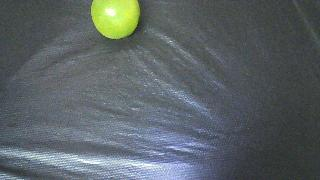LOCAL: (91, 0, 140, 39)
